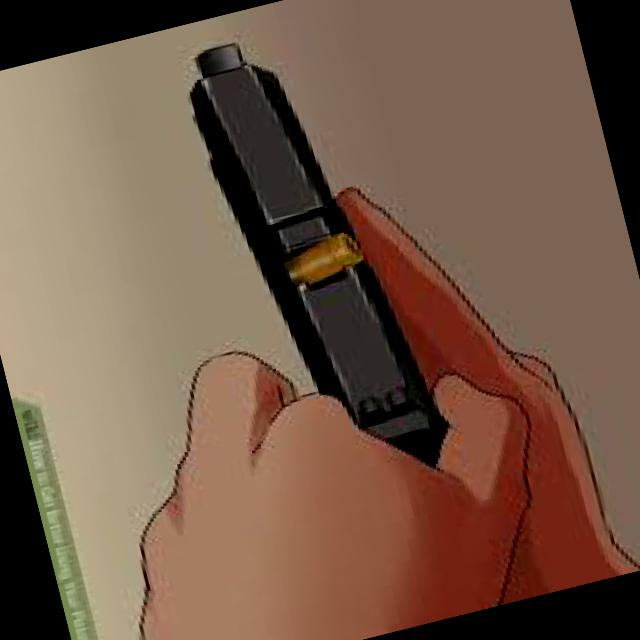handgun: (158, 0, 488, 526)
